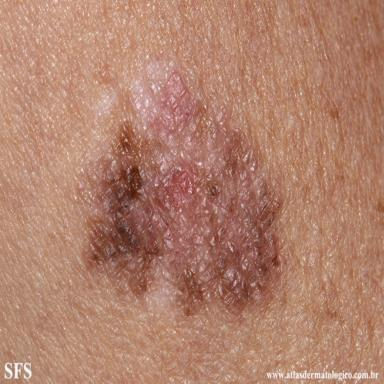Melanoma: (91, 70, 279, 314)
